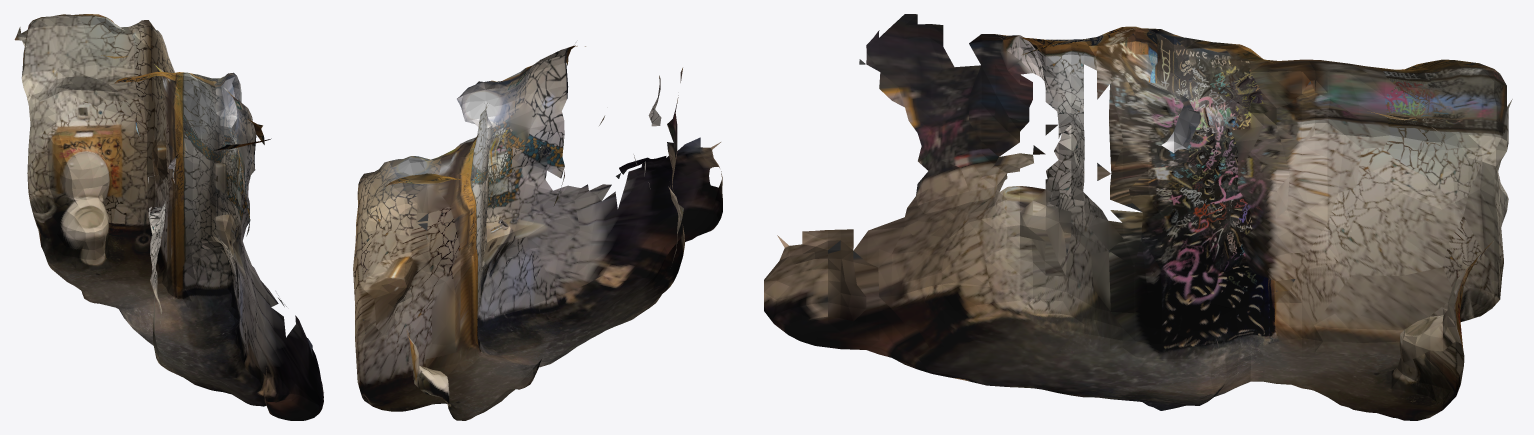
The model's file is Casa Ponton 2.glb.
The picture shows the model from 3 angles, left to right: view 1: azimuth 30°, elevation 25°; view 2: azimuth 150°, elevation 25°; view 3: azimuth 270°, elevation 25°; orthographic projection. The views are drawn at different scales.
Visible parts, largest first — view 1: mesh; view 2: mesh; view 3: mesh.
Boxes of the visible parts, box(x1,y1,x2,y2) form: mesh: box(14, 14, 323, 420); mesh: box(353, 45, 722, 420); mesh: box(764, 14, 1512, 420).
Size of the model in its own units: 1.54 by 2.48 by 4.97.
Materials: 1 (1 with a texture image).
